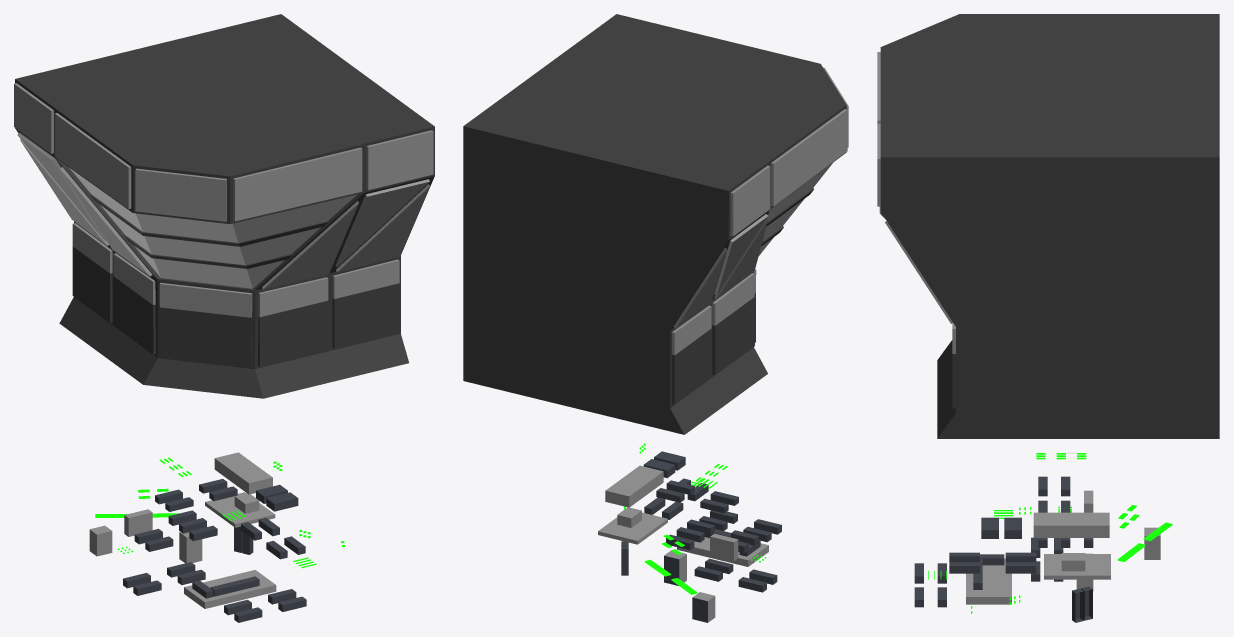
The model's file is Building_06_Fake Interior_Corner.FBX.
3 renders of one model, left to right at view 1: azimuth 30°, elevation 25°; view 2: azimuth 150°, elevation 25°; view 3: azimuth 270°, elevation 25°, orthographic. The views are drawn at different scales.
Parts seen in each view (by area): view 1: Building_06_Fake Interior_Corner_LOD0, Building_06_Corner_Fake Interior_B_LOD0, Building_06_Corner_Neon_B_LOD0; view 2: Building_06_Fake Interior_Corner_LOD0, Building_06_Corner_Fake Interior_B_LOD0, Building_06_Corner_Neon_B_LOD0; view 3: Building_06_Fake Interior_Corner_LOD0, Building_06_Corner_Fake Interior_B_LOD0, Building_06_Corner_Neon_B_LOD0.
Boxes of the visible parts, x1=… form: Building_06_Fake Interior_Corner_LOD0: x1=14, y1=14, x2=434, y2=398; Building_06_Corner_Fake Interior_B_LOD0: x1=89, y1=452, x2=306, y2=622; Building_06_Corner_Neon_B_LOD0: x1=95, y1=457, x2=344, y2=568; Building_06_Fake Interior_Corner_LOD0: x1=463, y1=14, x2=848, y2=434; Building_06_Corner_Fake Interior_B_LOD0: x1=598, y1=451, x2=781, y2=622; Building_06_Corner_Neon_B_LOD0: x1=624, y1=443, x2=766, y2=594; Building_06_Fake Interior_Corner_LOD0: x1=877, y1=14, x2=1219, y2=438; Building_06_Corner_Fake Interior_B_LOD0: x1=914, y1=476, x2=1160, y2=622; Building_06_Corner_Neon_B_LOD0: x1=928, y1=453, x2=1172, y2=613.
Size of what is drawn, in the model's own units: 1091 by 1814 by 1091.
